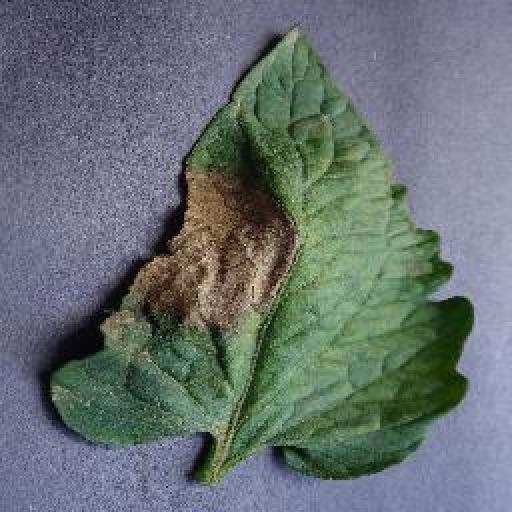Late Blight: (43, 23, 477, 485)
